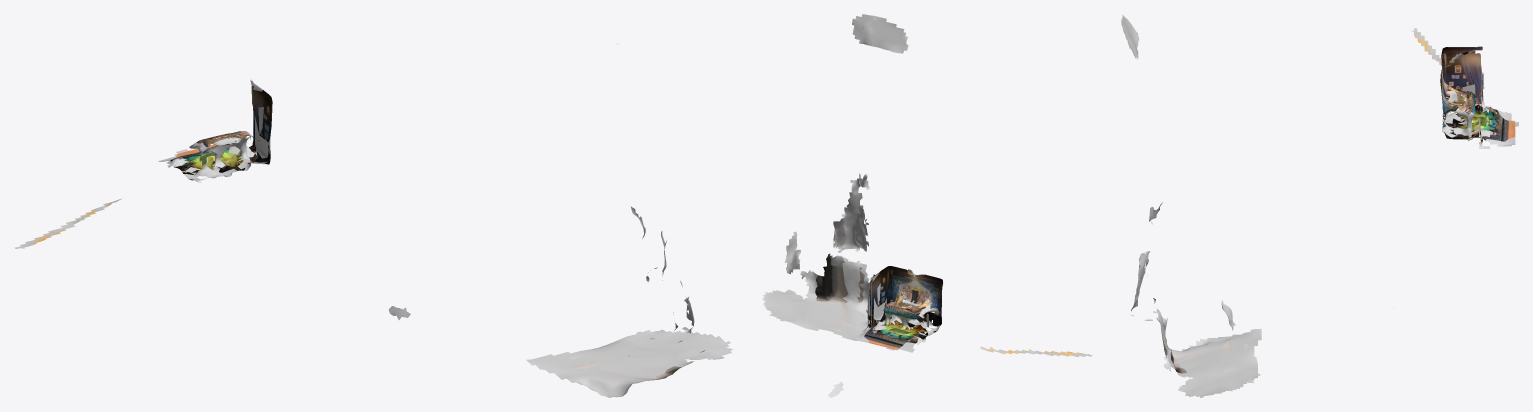
3 renders of one model, left to right at view 1: azimuth 30°, elevation 25°; view 2: azimuth 150°, elevation 25°; view 3: azimuth 270°, elevation 25°, orthographic. The views are drawn at different scales.
Parts seen in each view (by area): view 1: object 1, texture_0, texture_1; view 2: object 1, texture_0, texture_1; view 3: object 1, texture_0, texture_1.
Part boxes in pixels (x1=…): object 1: x1=14, y1=79, x2=733, y2=397; texture_0: x1=29, y1=86, x2=693, y2=380; texture_1: x1=176, y1=135, x2=268, y2=180; object 1: x1=762, y1=14, x2=1092, y2=397; texture_0: x1=815, y1=218, x2=1084, y2=355; texture_1: x1=864, y1=274, x2=941, y2=349; object 1: x1=1121, y1=15, x2=1518, y2=397; texture_0: x1=1146, y1=34, x2=1499, y2=373; texture_1: x1=1442, y1=87, x2=1515, y2=144.
Bounding box in the file's own units: 3.2 × 2.06 × 2.2.
3 materials, 2 textured.
